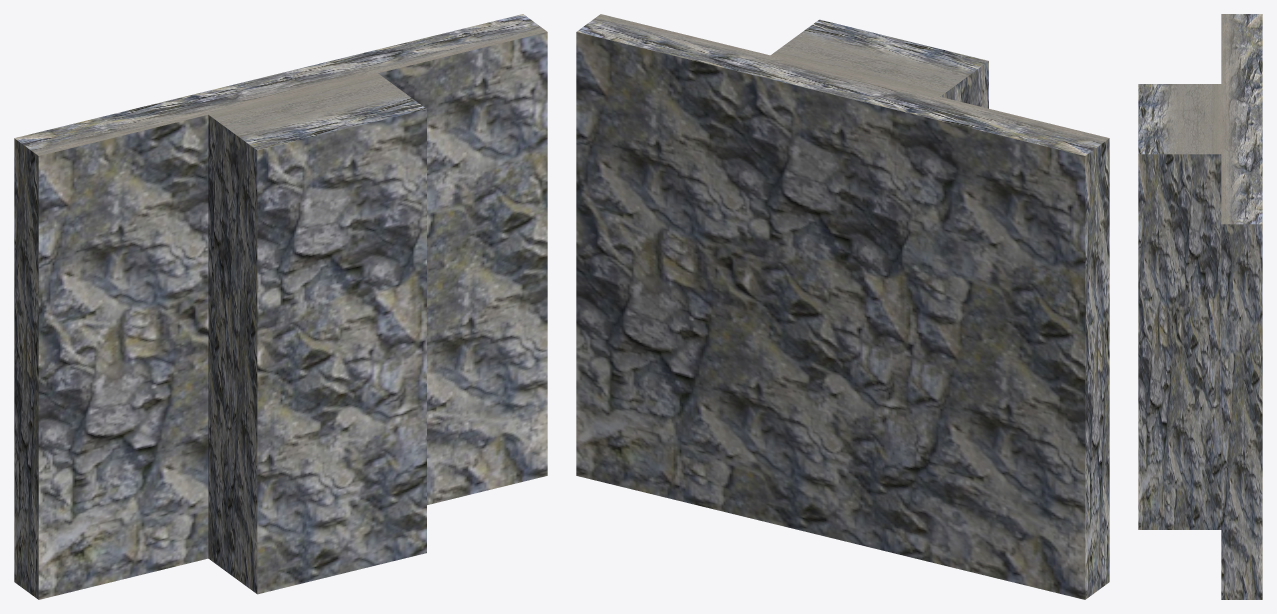
File: PlatformSimple_Edge03.FBX
3 renders of one model, left to right at view 1: azimuth 30°, elevation 25°; view 2: azimuth 150°, elevation 25°; view 3: azimuth 270°, elevation 25°, orthographic. The views are drawn at different scales.
Visible parts, largest first — view 1: Box01; view 2: Box01; view 3: Box01.
Part boxes in pixels (x1=…): Box01: x1=14, y1=14, x2=547, y2=599; Box01: x1=576, y1=14, x2=1109, y2=599; Box01: x1=1138, y1=14, x2=1262, y2=599.
Size of the model in its own units: 1200 by 1000 by 300.
2 materials, 2 textured.
